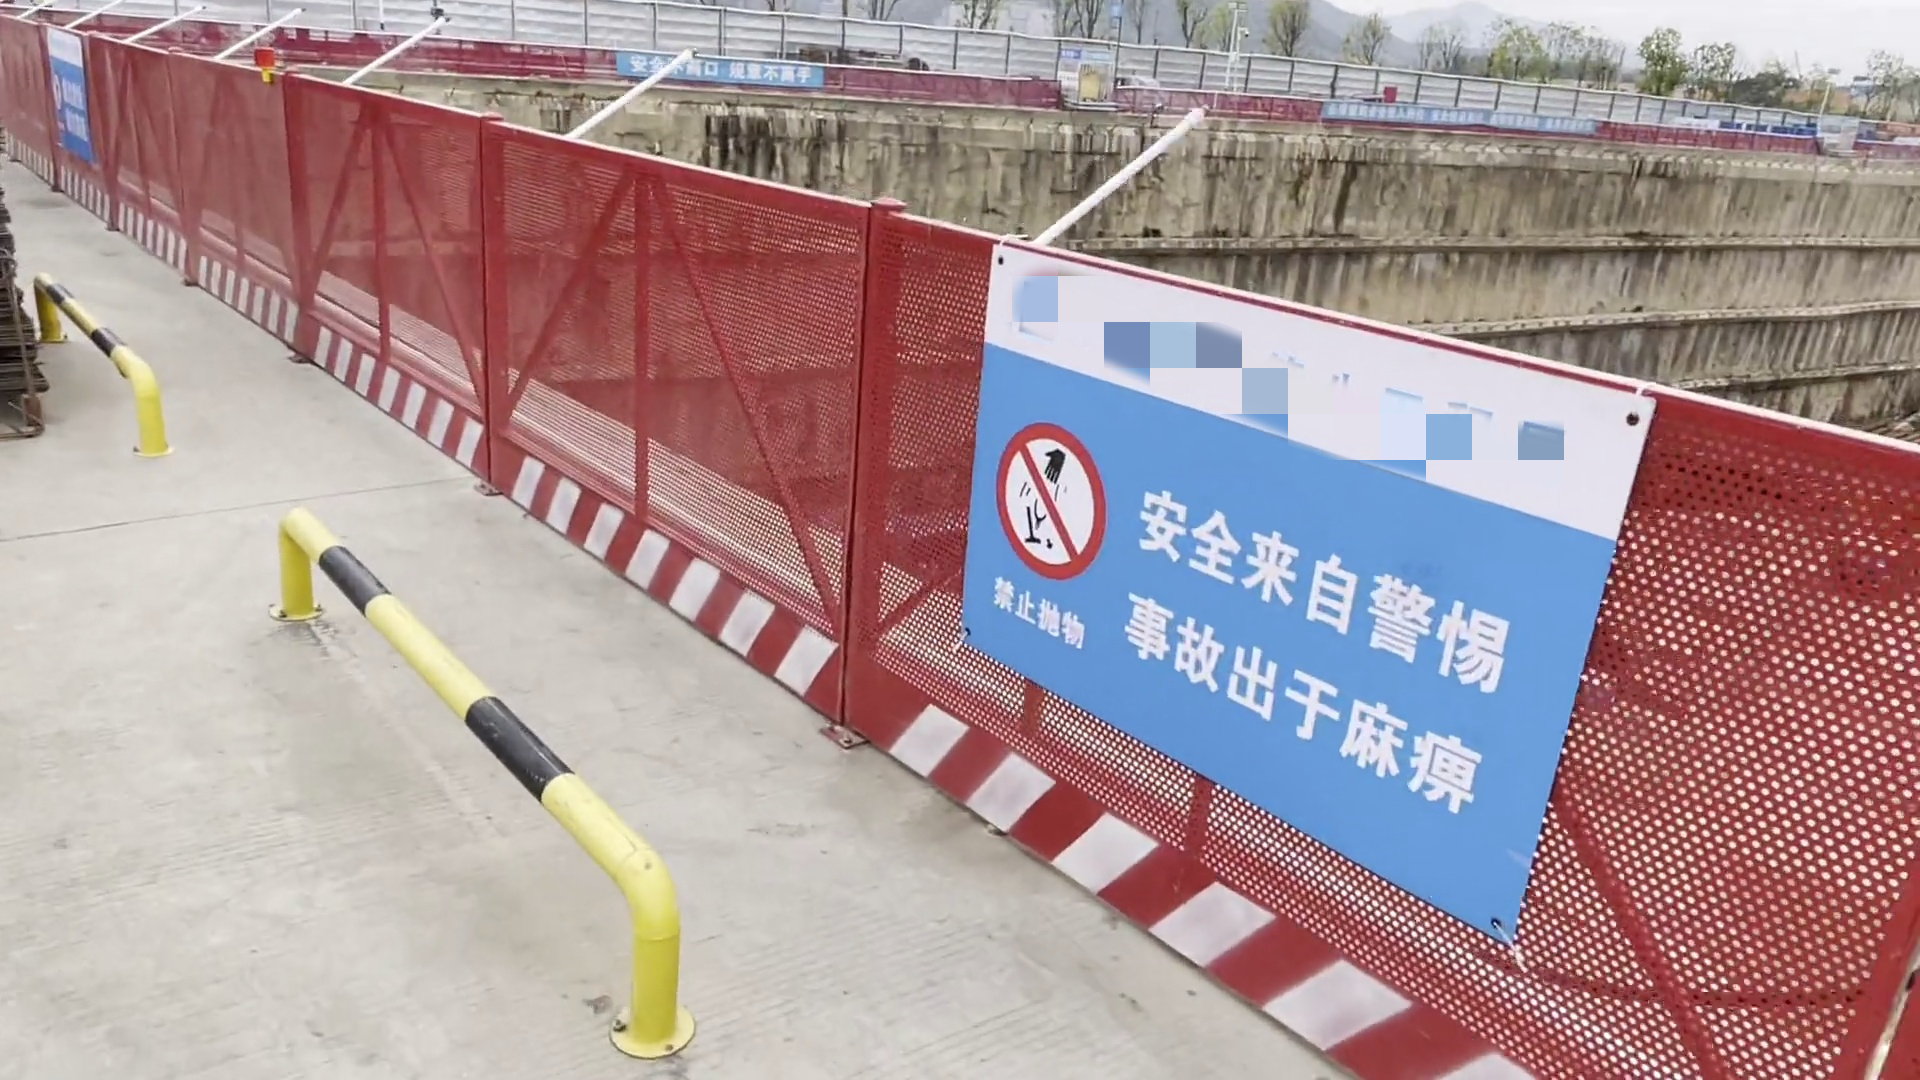fence: (857, 208, 1915, 1080), (483, 119, 851, 736), (4, 20, 285, 327), (282, 73, 483, 459)
slogan: (960, 245, 1664, 975), (1323, 99, 1598, 146), (37, 26, 102, 169), (612, 54, 820, 87)
